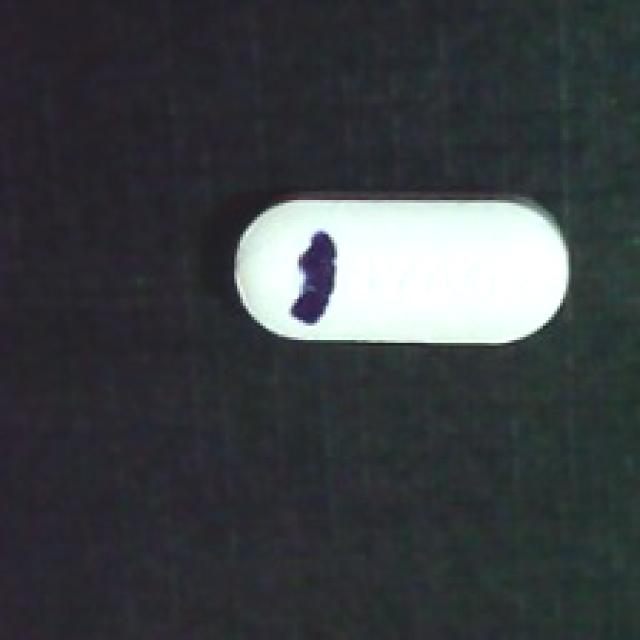defected: (226, 186, 574, 349)
